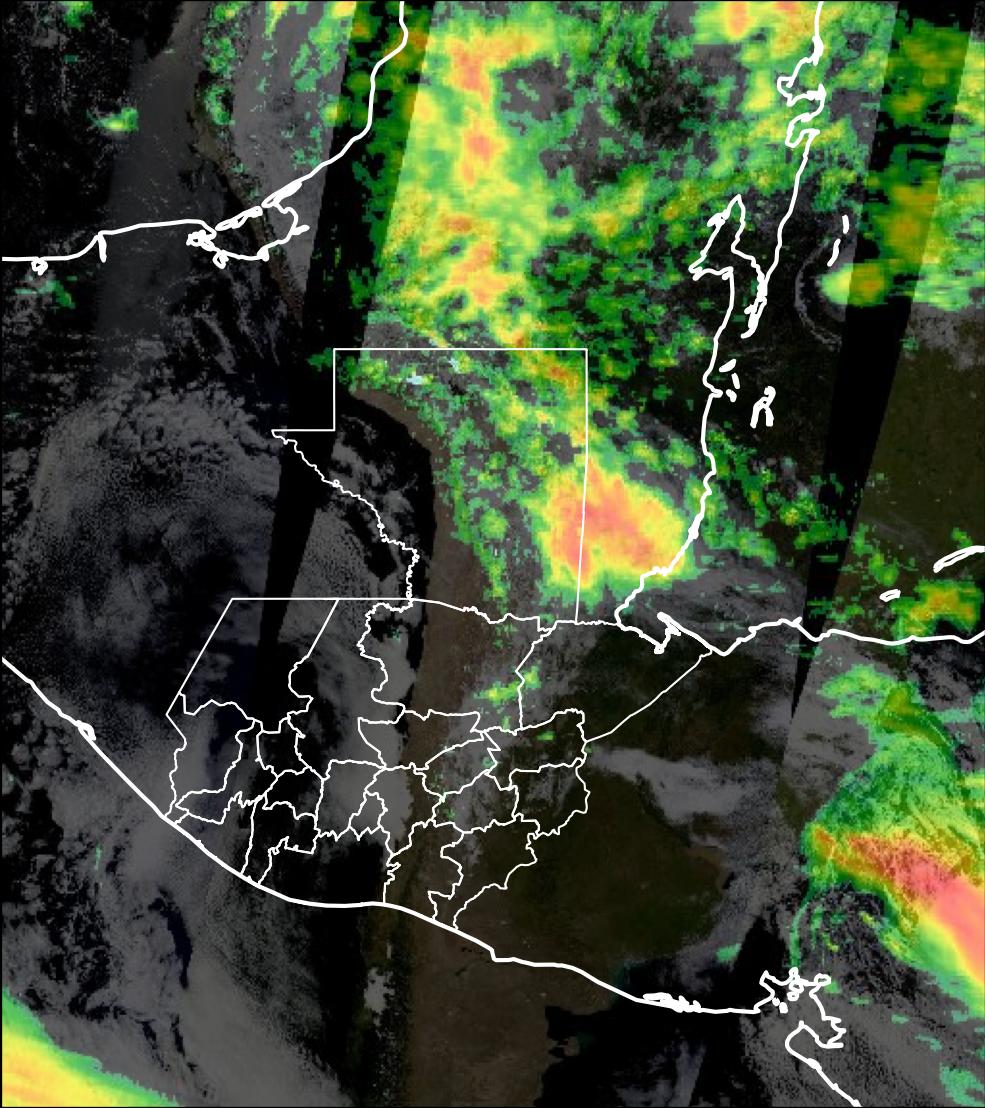precipitacion: (826, 827, 985, 979), (551, 471, 672, 584), (444, 28, 547, 113)
